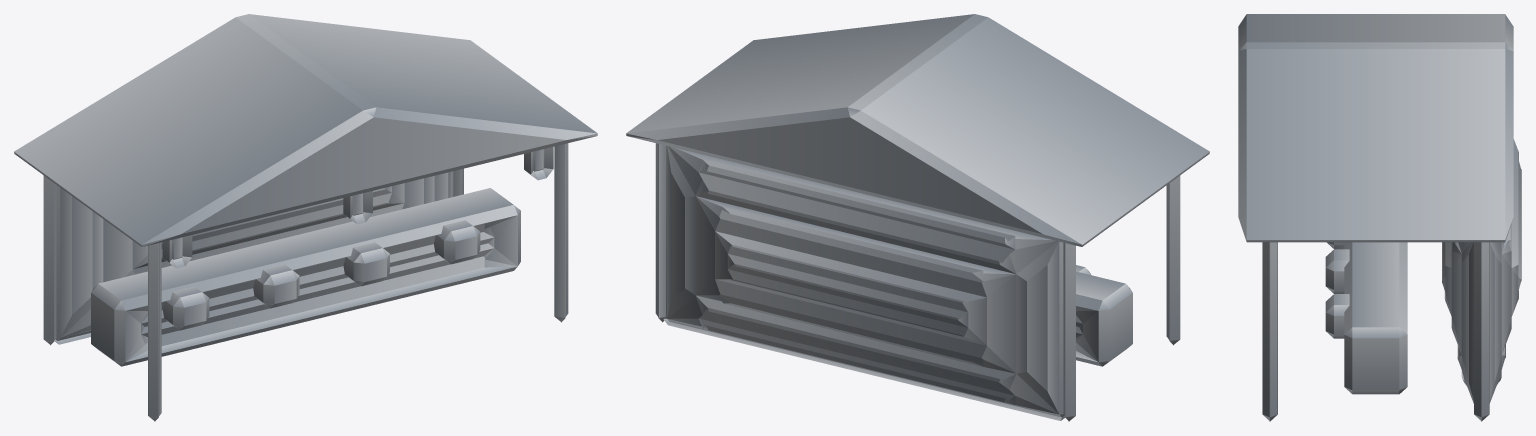
File: dt_market_stall.fbx
The picture shows the model from 3 angles, left to right: view 1: azimuth 30°, elevation 25°; view 2: azimuth 150°, elevation 25°; view 3: azimuth 270°, elevation 25°; orthographic projection.
Visible parts, largest first — view 1: dt_market_stall; view 2: dt_market_stall; view 3: dt_market_stall.
Boxes of the visible parts, bbox=[...] form: dt_market_stall: bbox=[14, 14, 597, 421]; dt_market_stall: bbox=[626, 14, 1209, 421]; dt_market_stall: bbox=[1238, 14, 1521, 421].
Bounding box in the file's own units: 1200 × 683 × 636.
